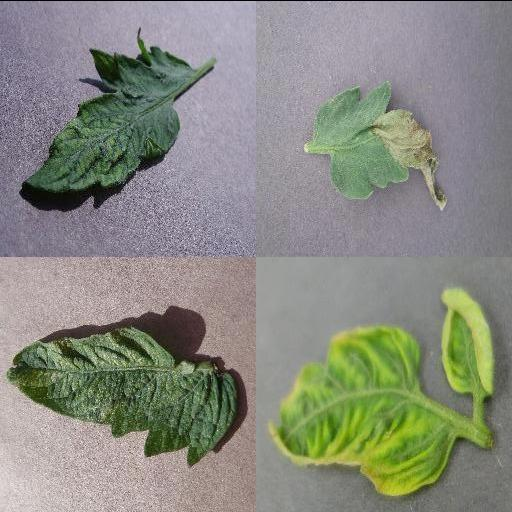Late Blight: (313, 80, 447, 210)
Mosaic Virus: (22, 25, 200, 191)
Spider Mites: (4, 324, 236, 468)
Yellow Leaf Curl Virus: (266, 325, 456, 495), (441, 283, 495, 395)
